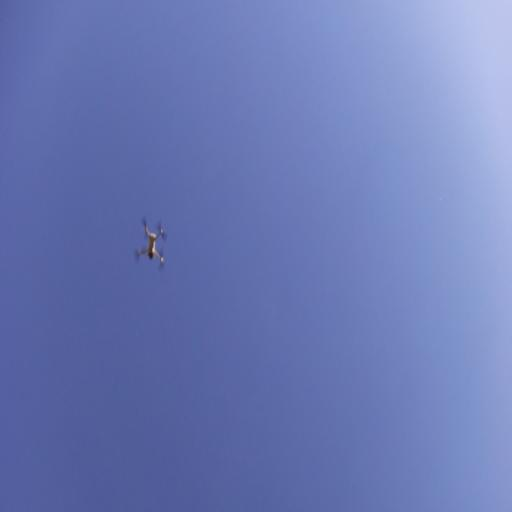drones: (134, 212, 168, 274)
